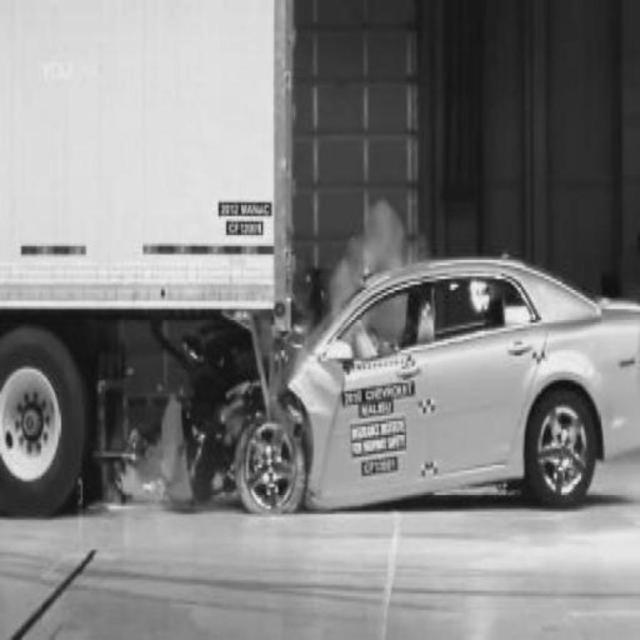accident: (7, 134, 628, 510)
